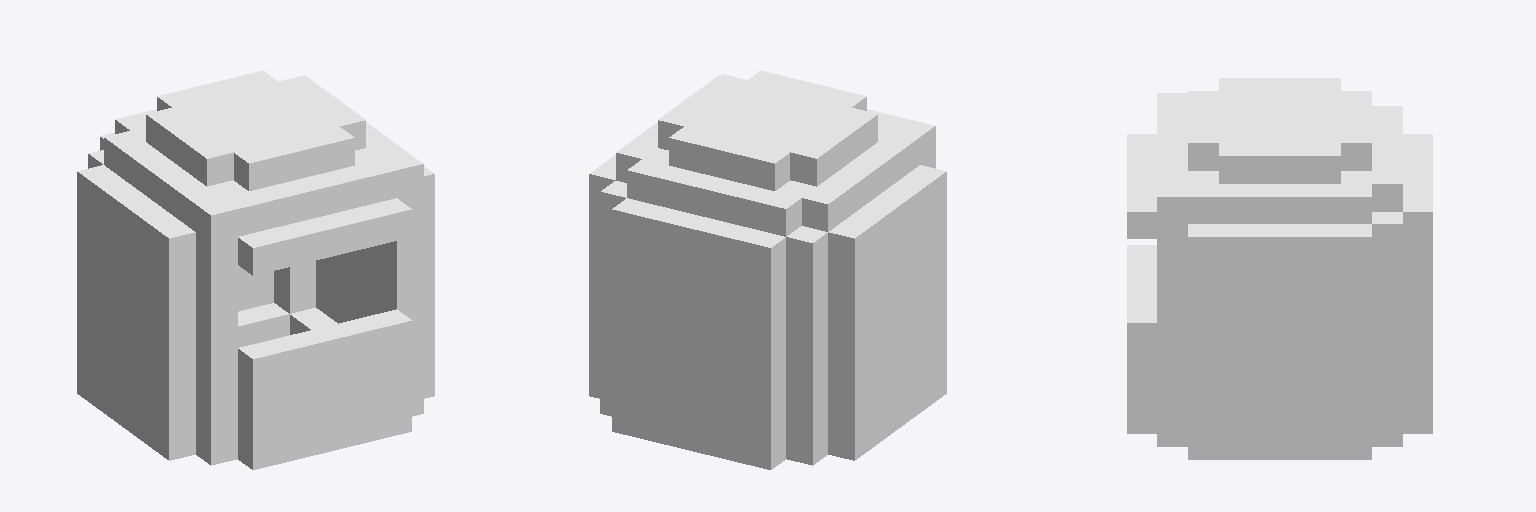
File: Helmet.obj
The picture shows the model from 3 angles: view 1: azimuth 30°, elevation 25°; view 2: azimuth 150°, elevation 25°; view 3: azimuth 270°, elevation 25°; orthographic projection.
Visible parts, largest first — view 1: object 1; view 2: object 1; view 3: object 1.
Boxes of the visible parts, box(x1,y1,x2,y2) form: object 1: box(77, 71, 434, 469); object 1: box(589, 71, 946, 469); object 1: box(1127, 78, 1432, 459).
Size of the model in its own units: 1 by 1 by 1.